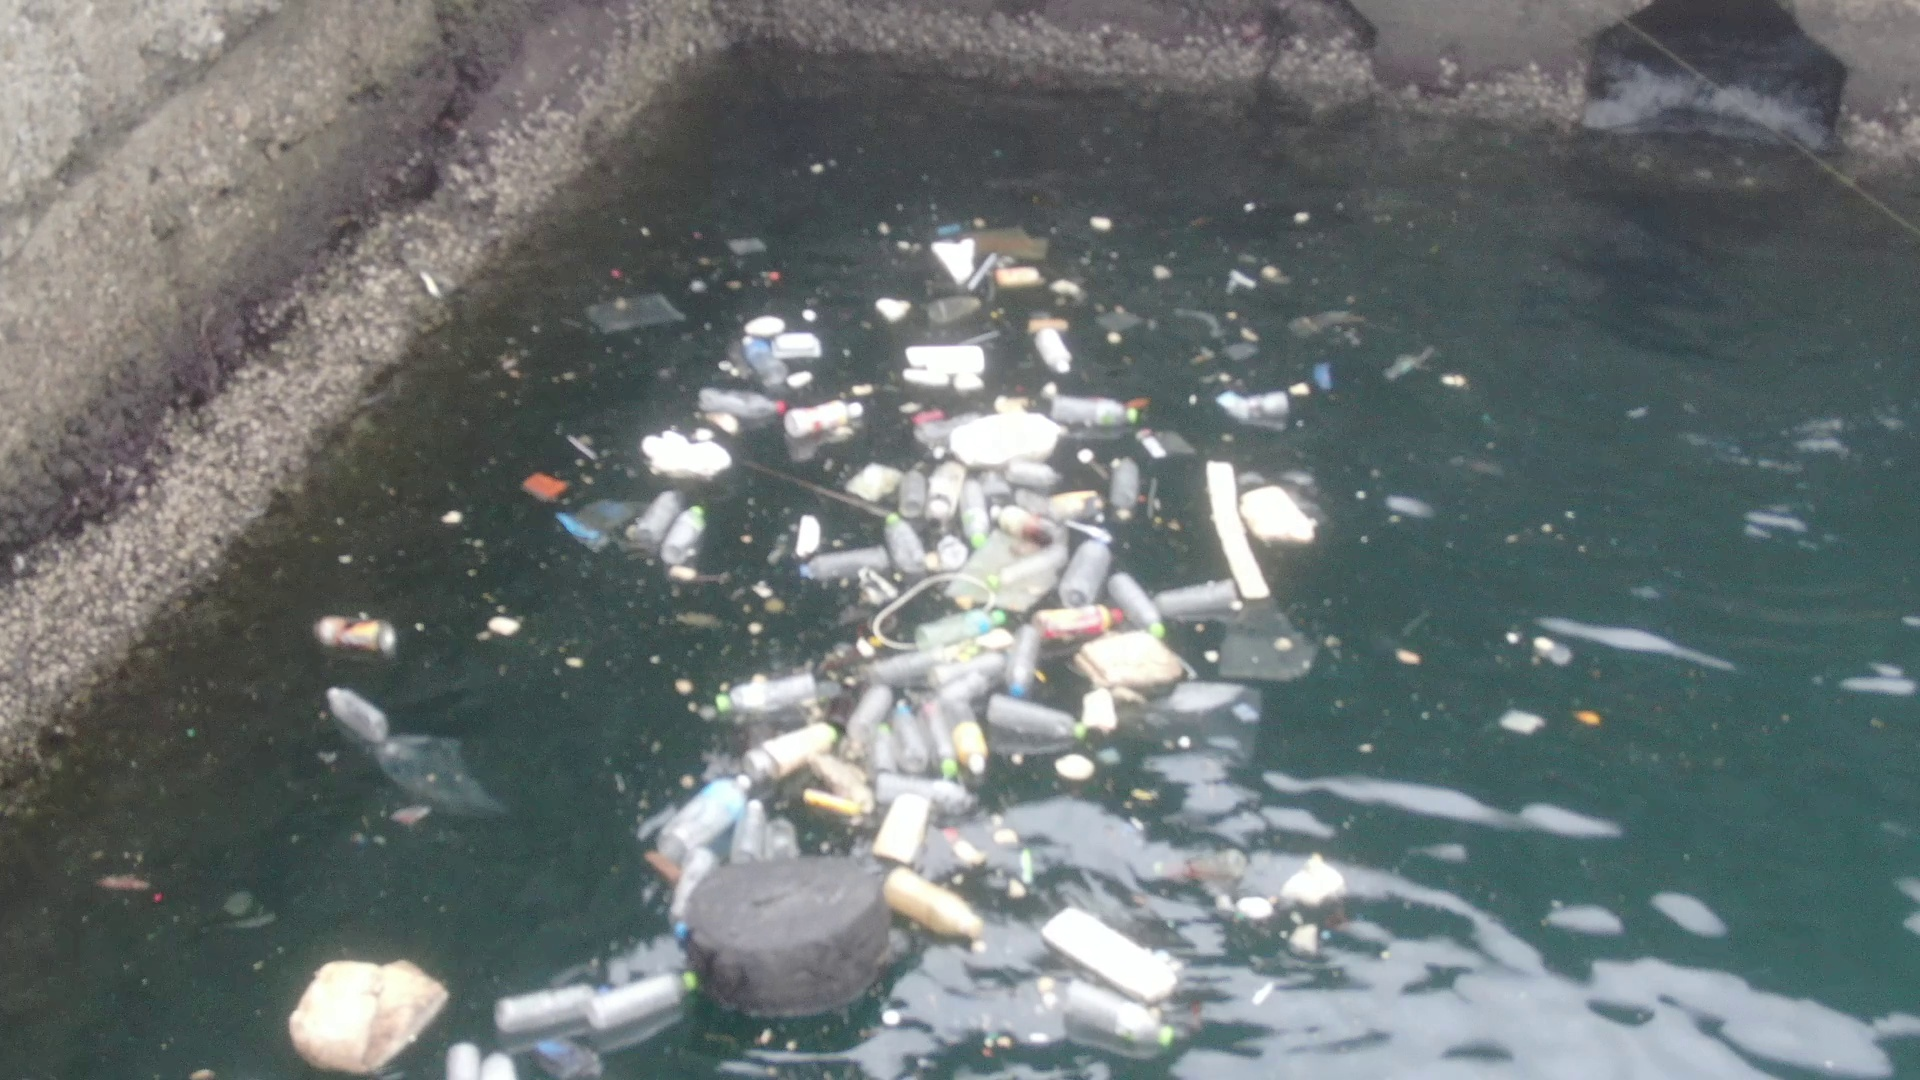bottle: (646, 754, 752, 862), (477, 963, 640, 1033), (584, 965, 709, 1031), (705, 667, 820, 727), (943, 692, 1004, 793), (1112, 560, 1187, 638), (650, 493, 717, 579), (905, 595, 1011, 645), (1023, 316, 1098, 382), (889, 688, 948, 771), (1029, 597, 1129, 642), (1062, 524, 1112, 613), (880, 502, 938, 578), (737, 324, 802, 390), (696, 386, 803, 419)
garbage: (243, 542, 1362, 940), (589, 186, 1327, 690), (512, 262, 1352, 698), (175, 799, 1389, 1080)
